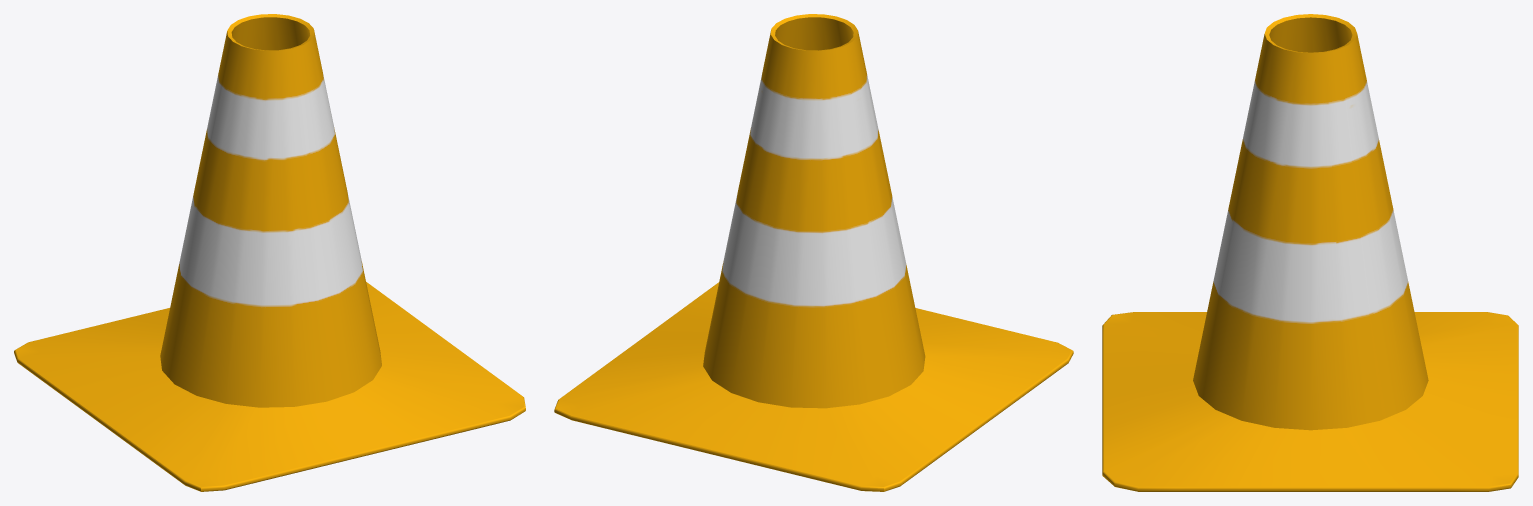
The model's file is trafficCone.fbx.
3 views of the same model, side by side, from view 1: azimuth 30°, elevation 25°; view 2: azimuth 150°, elevation 25°; view 3: azimuth 270°, elevation 25° (orthographic). The views are drawn at different scales.
Parts seen in each view (by area): view 1: pCylinder1; view 2: pCylinder1; view 3: pCylinder1.
Boxes of the visible parts, x1=… form: pCylinder1: x1=14, y1=14, x2=525, y2=491; pCylinder1: x1=554, y1=14, x2=1073, y2=491; pCylinder1: x1=1102, y1=14, x2=1518, y2=491.
Size of the model in its own units: 2.09 by 2.05 by 2.09.
